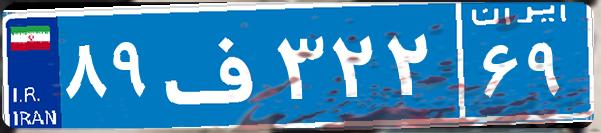2: (385, 28, 445, 110), (330, 28, 385, 110)
3: (273, 28, 330, 110)
6: (475, 38, 525, 113)
8: (57, 26, 110, 107)
9: (110, 28, 158, 105), (525, 38, 570, 115)
ف: (158, 15, 273, 115)
